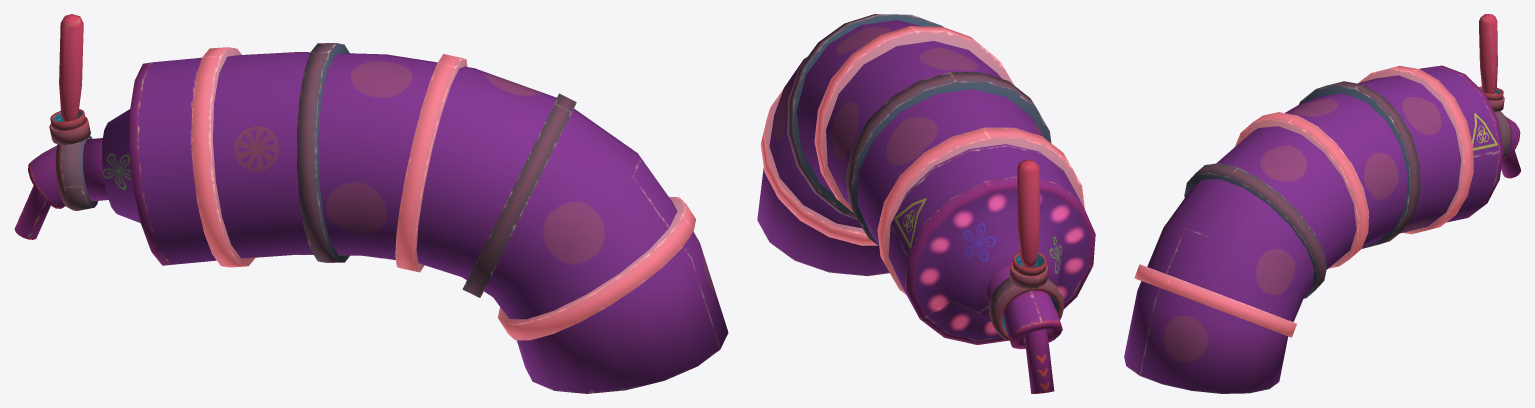
File: nalewak.fbx
The picture shows the model from 3 angles, left to right: view 1: azimuth 30°, elevation 25°; view 2: azimuth 150°, elevation 25°; view 3: azimuth 270°, elevation 25°; orthographic projection. The views are drawn at different scales.
Visible parts, largest first — view 1: Cylinder.025, Cylinder.019; view 2: Cylinder.025, Cylinder.019; view 3: Cylinder.025, Cylinder.019.
Boxes of the visible parts, left/top/right/bottom form: Cylinder.025: left=14, top=43, right=728, bottom=393; Cylinder.019: left=59, top=14, right=83, bottom=121; Cylinder.025: left=757, top=14, right=1095, bottom=393; Cylinder.019: left=1017, top=160, right=1040, bottom=267; Cylinder.025: left=1124, top=65, right=1520, bottom=393; Cylinder.019: left=1479, top=14, right=1497, bottom=93.
Bounding box in the file's own units: 296 × 173 × 269.
